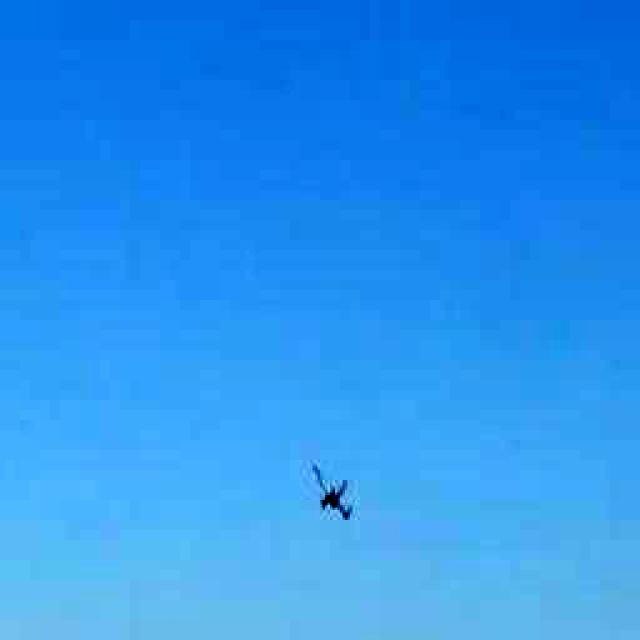bird: (290, 458, 370, 535)
